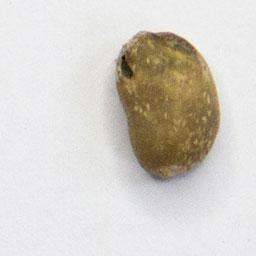defect: (111, 28, 223, 183)
